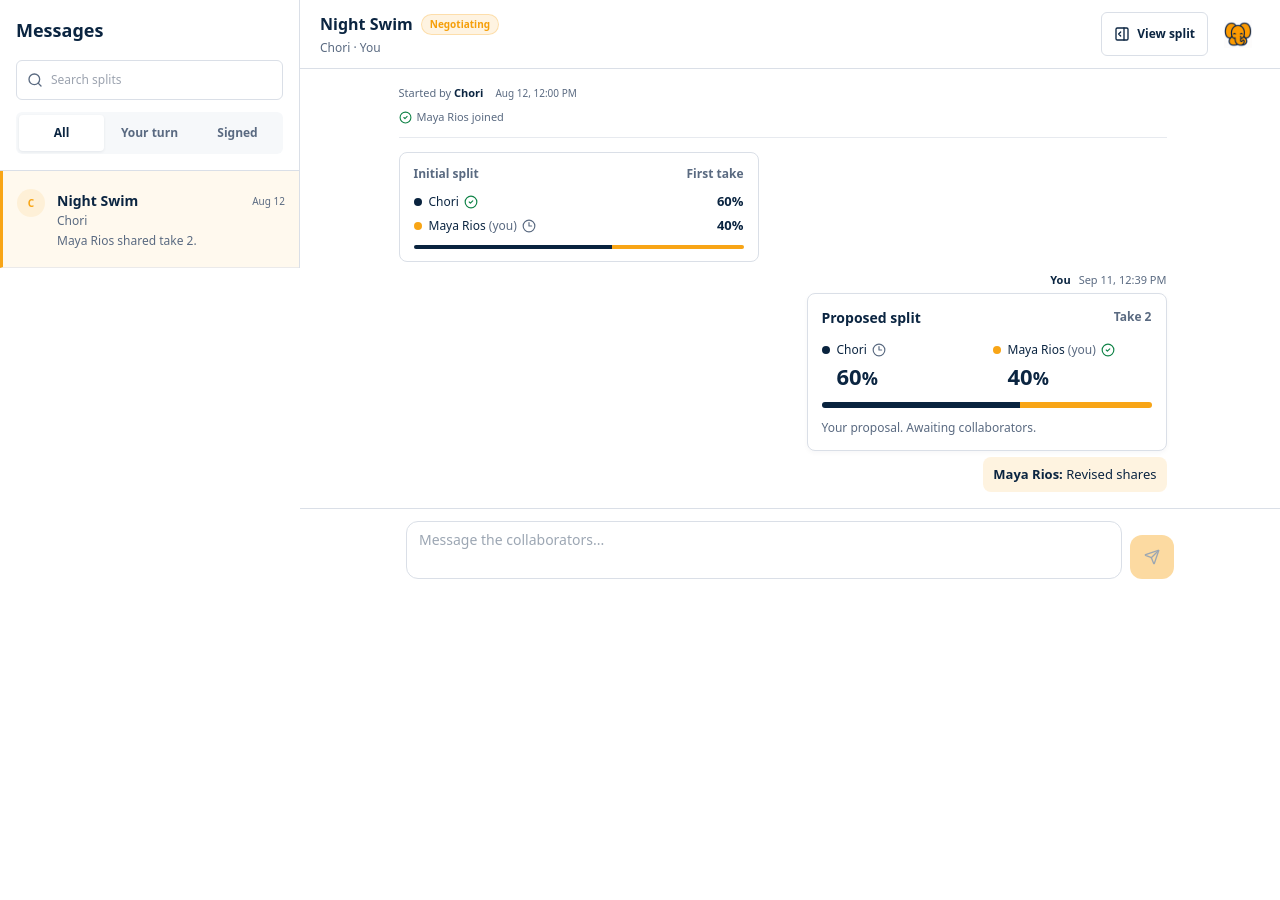
Test case: CollaborationView document-backed negotiation › renders a counter under its real author without self-response actions or an automatic reply
Check: the text "You" is shown, box [1050,272,1071,288]
Check: the text "Your proposal. Awaiting collaborators." is shown, box [822,419,1036,436]
Click the button named "Open Elephant private read": coordinates (1238, 34) [1216,12,1260,56]
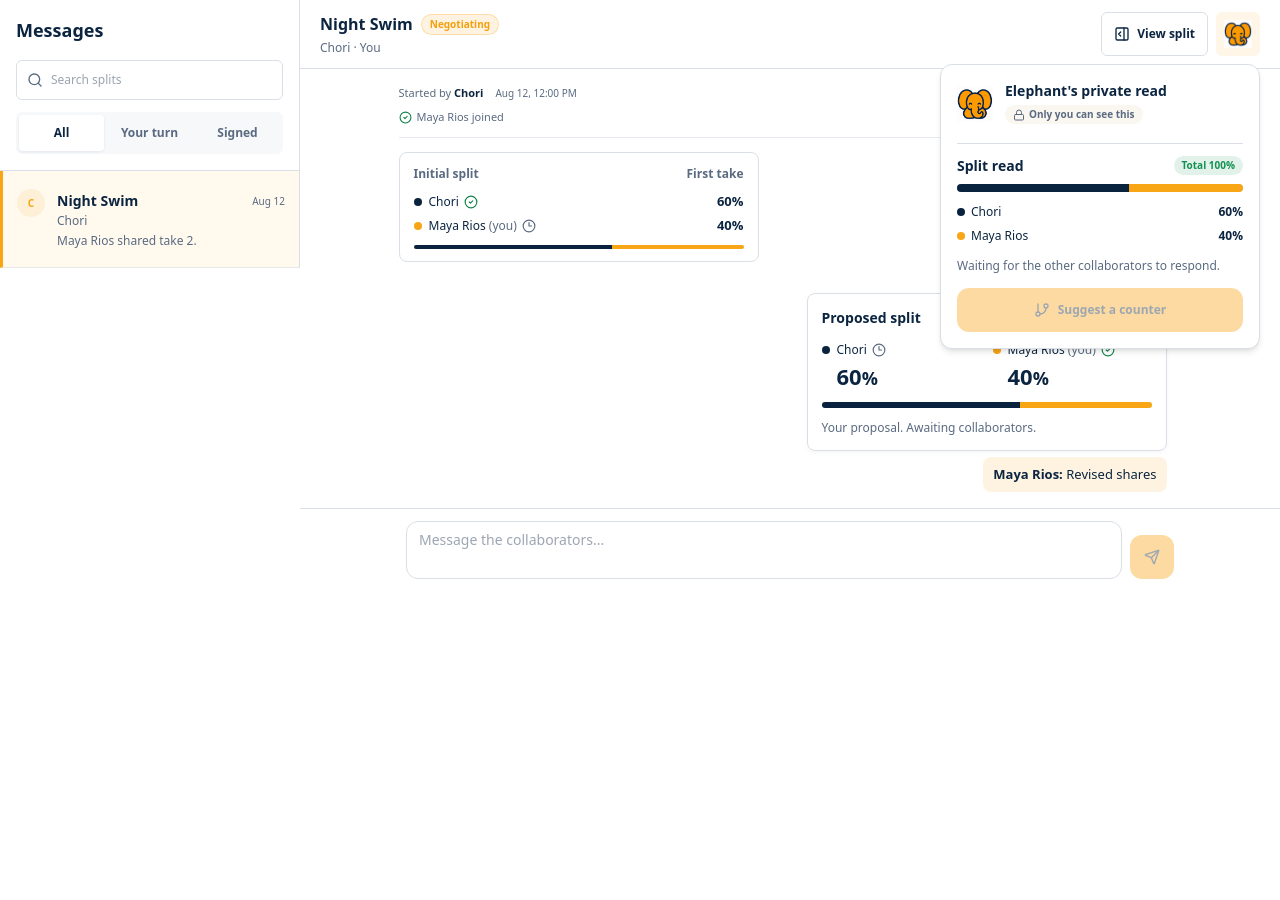
Check: the button "Suggest a counter" is disabled, box [957,288,1243,332]
